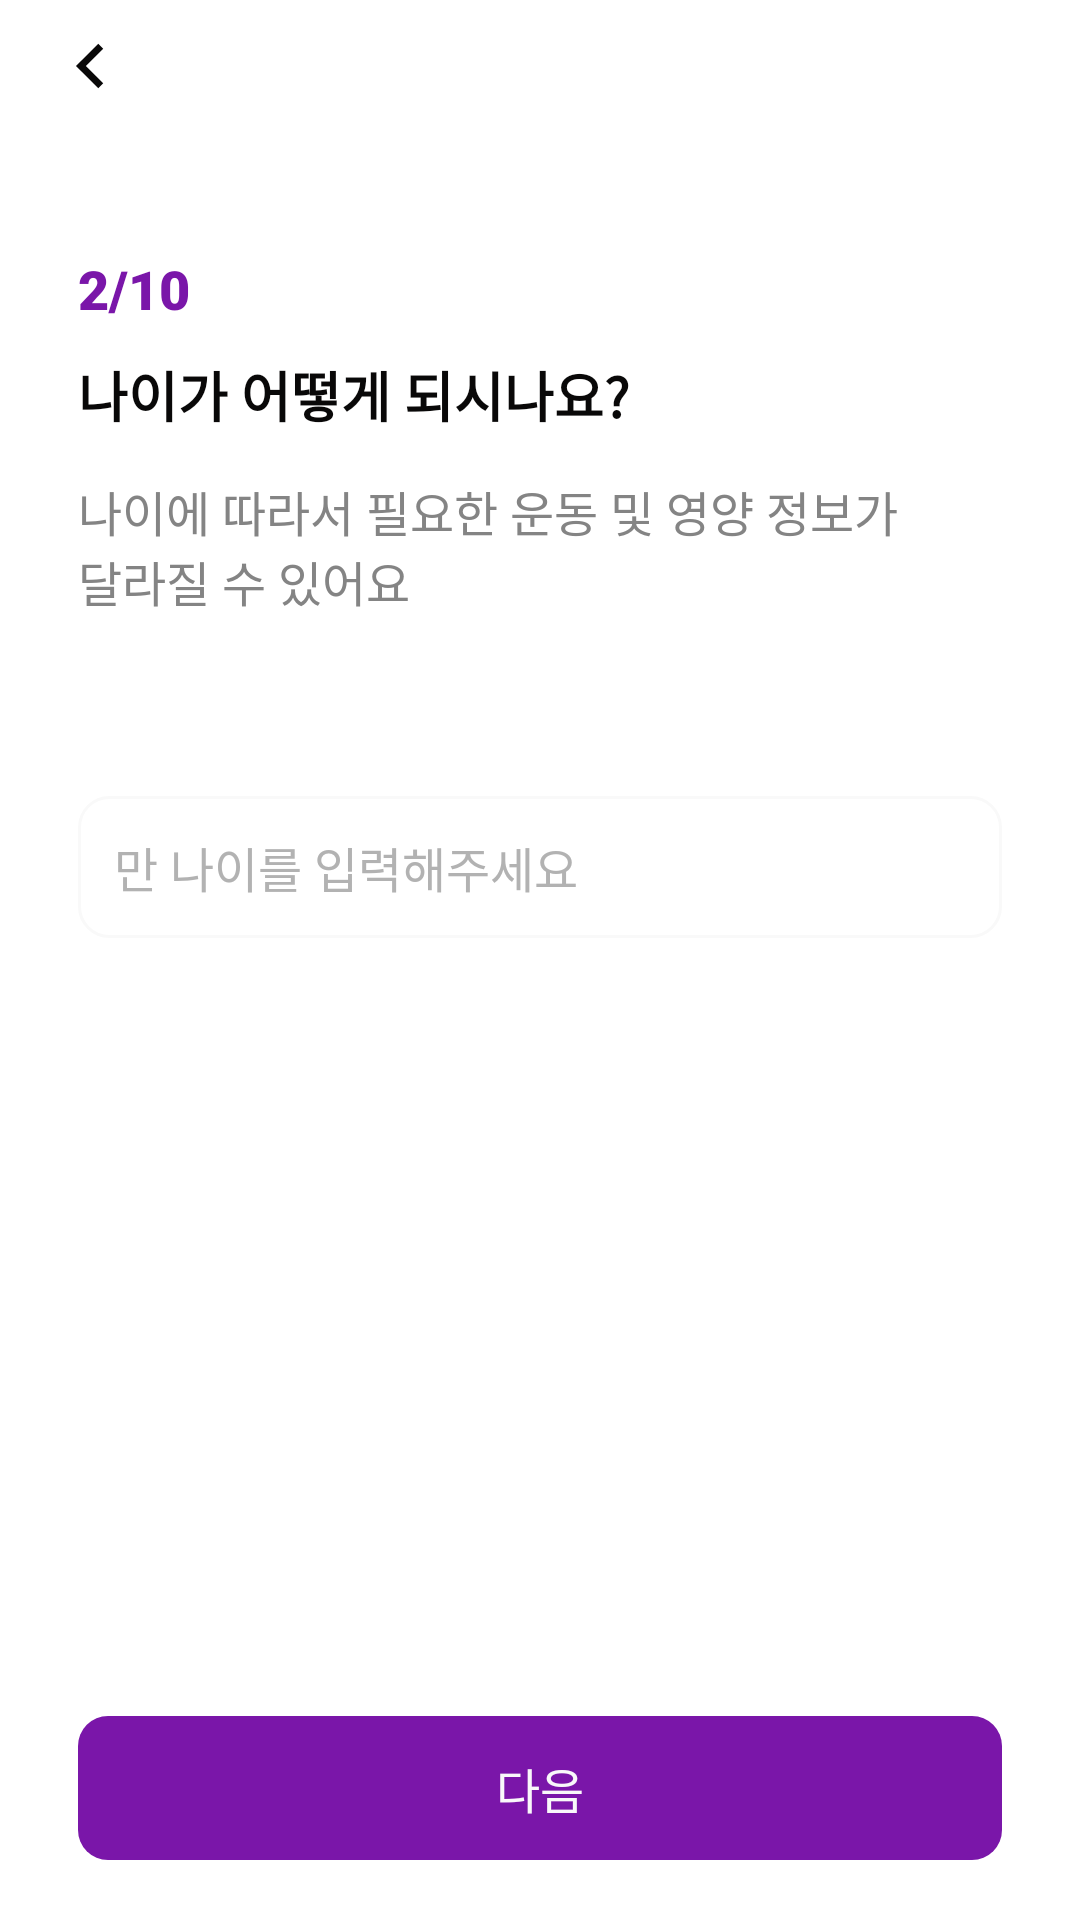

Point at icon controls on the screen. Image size 1080 × 1920, points as point (x, y).
arrow: point (89, 66)
